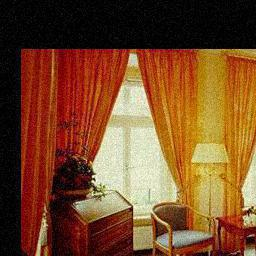Armario: (71, 201, 137, 256)
